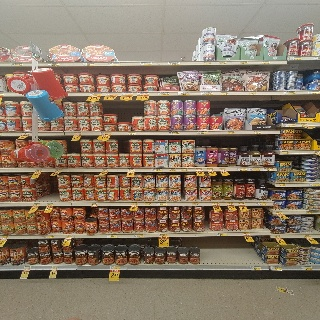All PRICE TAGS: (10, 62, 23, 67), (271, 266, 282, 271), (289, 56, 302, 60), (308, 90, 320, 94), (237, 167, 249, 171), (140, 61, 152, 65), (250, 167, 261, 171), (264, 167, 275, 171), (301, 266, 312, 270), (251, 266, 262, 270), (286, 123, 296, 127), (110, 266, 120, 270), (107, 234, 117, 238), (284, 91, 297, 94), (168, 62, 181, 65), (48, 63, 60, 66), (100, 132, 112, 135), (170, 131, 179, 135), (157, 202, 166, 206), (158, 92, 170, 95), (138, 92, 150, 95), (122, 92, 134, 95), (83, 62, 95, 65), (308, 91, 319, 94), (309, 183, 320, 186), (216, 233, 227, 236), (202, 92, 213, 95), (178, 92, 189, 95), (107, 92, 118, 95), (109, 62, 120, 65), (90, 92, 101, 95), (300, 123, 308, 127), (254, 130, 262, 134), (55, 168, 63, 172), (35, 168, 43, 172), (32, 202, 40, 206), (282, 151, 290, 155), (278, 183, 286, 187), (204, 61, 212, 65), (219, 61, 227, 65), (152, 168, 162, 171), (44, 235, 54, 238), (52, 265, 58, 270), (144, 202, 151, 206), (192, 202, 199, 206), (24, 266, 31, 270), (248, 91, 257, 94), (198, 131, 207, 134), (168, 168, 177, 171), (206, 168, 215, 171), (256, 202, 265, 205), (240, 61, 249, 64), (22, 133, 30, 136), (74, 132, 82, 135), (226, 131, 234, 134), (127, 169, 135, 172), (180, 168, 188, 171), (195, 168, 203, 171), (131, 203, 139, 206), (227, 202, 235, 205), (314, 150, 320, 154), (160, 234, 168, 237), (135, 234, 143, 237), (237, 202, 245, 205), (221, 92, 229, 95), (262, 61, 270, 64), (128, 132, 135, 135), (219, 168, 226, 171), (47, 203, 54, 206), (65, 235, 72, 238), (304, 235, 311, 238), (274, 235, 281, 238), (306, 211, 313, 214), (102, 169, 108, 172), (92, 203, 98, 206), (213, 202, 219, 205), (2, 235, 8, 238), (276, 211, 282, 214), (244, 232, 250, 235)
